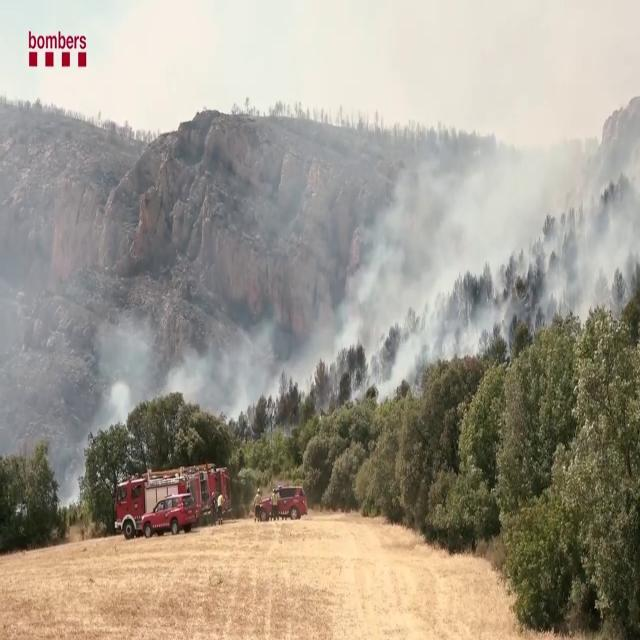Smoke: (90, 1, 640, 418)
